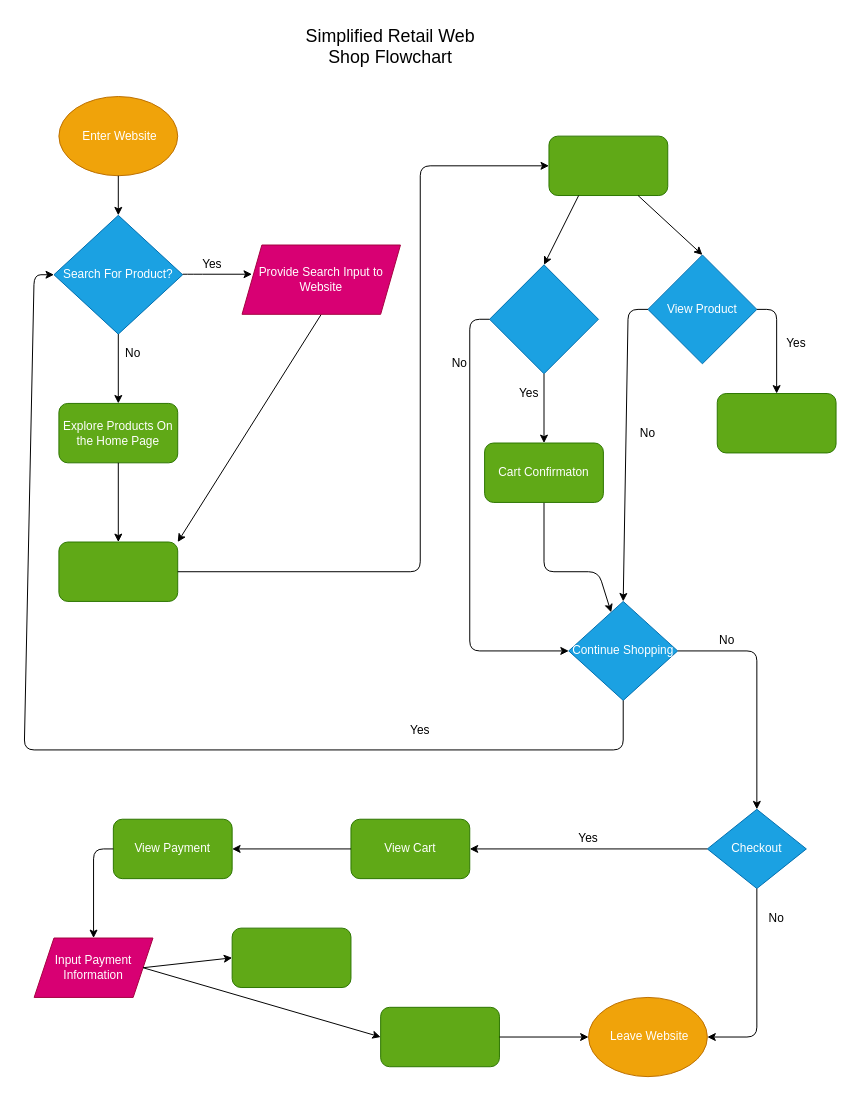
Image size: 853x1094. Some labels were removed from this diagram. Each missing label, with the box of its shape:
Add Item to Cart: (489, 264, 598, 374)
Email Order: (231, 927, 351, 988)
Look Over All Products On the Page: (58, 541, 178, 601)
Order Confirmation Screen: (380, 1006, 499, 1067)
Product's WebPage Opens: (716, 393, 836, 453)
View Specific Product: (548, 135, 668, 196)
